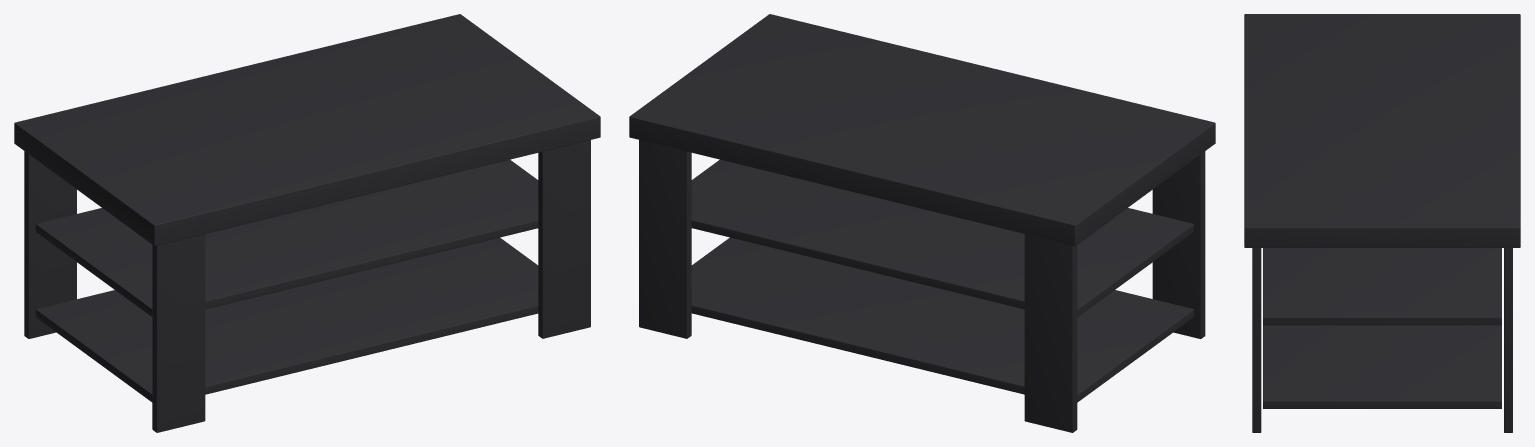
Rendered from Coffee table.FBX.
3 views of the same model, side by side, from view 1: azimuth 30°, elevation 25°; view 2: azimuth 150°, elevation 25°; view 3: azimuth 270°, elevation 25° (orthographic).
Visible parts, largest first — view 1: coffee table; view 2: coffee table; view 3: coffee table.
Boxes of the visible parts, <box> form: coffee table: <box>14,14,600,432</box>; coffee table: <box>629,14,1215,432</box>; coffee table: <box>1244,14,1520,432</box>.
Size of the model in its own units: 110 by 50 by 60.
Materials: 1 (1 with a texture image).
